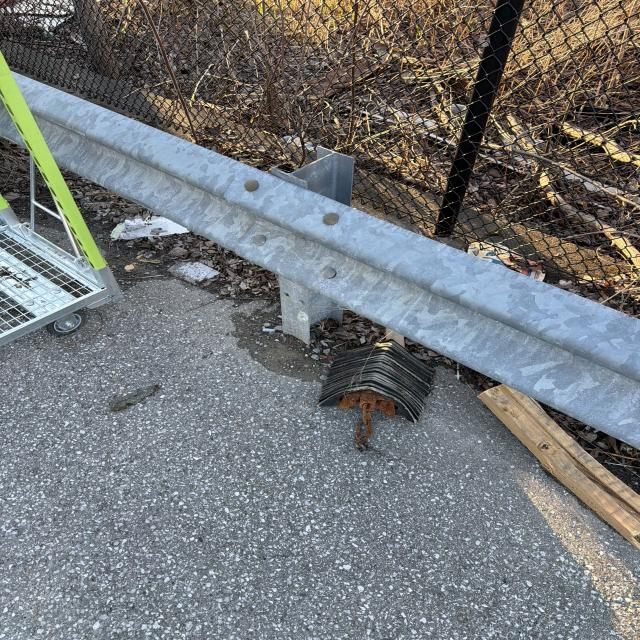Guard rail: (8, 104, 607, 420)
